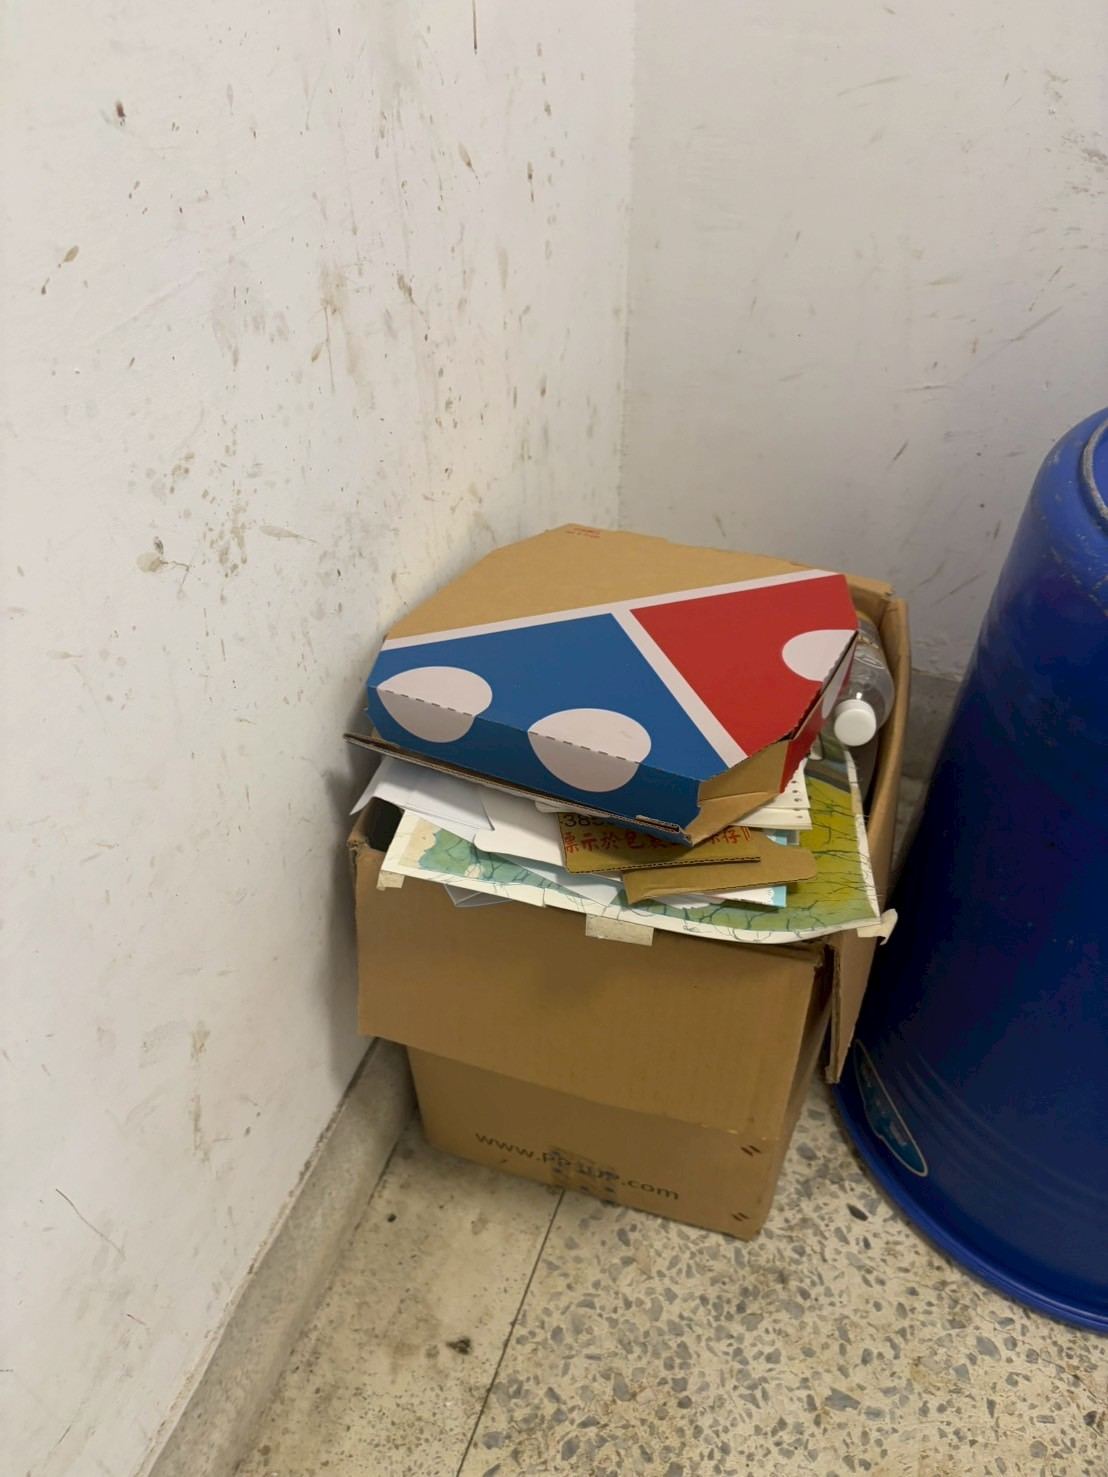overflow_bin: (303, 503, 932, 1262)
